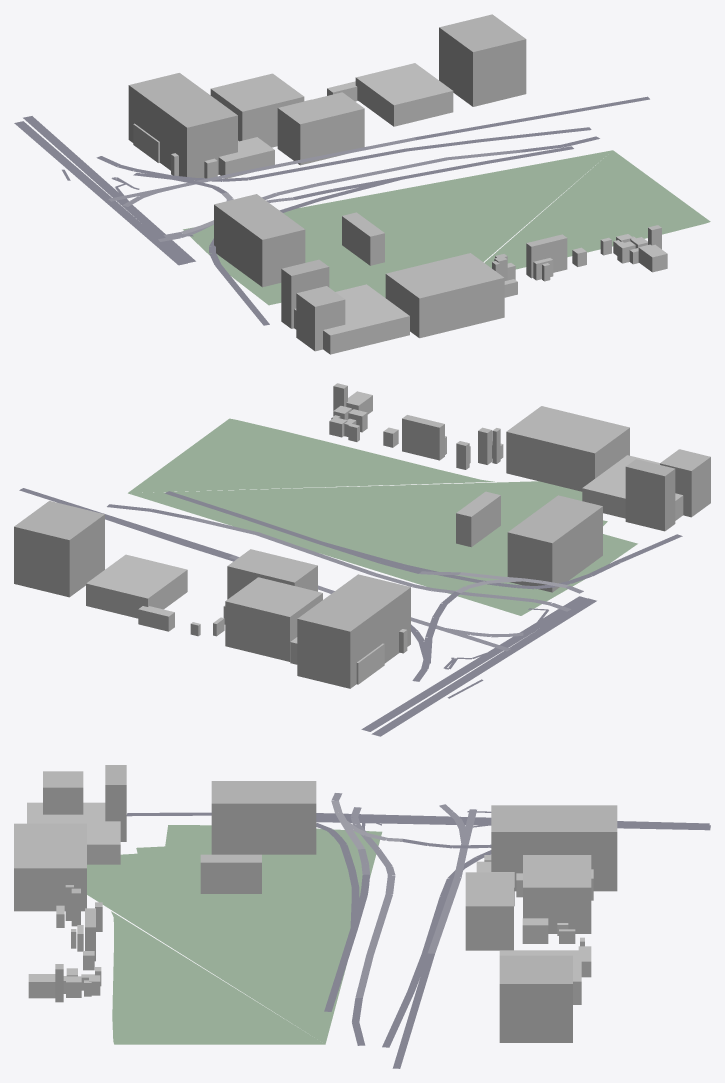
File: 128_87_mid.glb
3 renders of one model, top to bottom at view 1: azimuth 30°, elevation 25°; view 2: azimuth 150°, elevation 25°; view 3: azimuth 270°, elevation 25°, orthographic. The views are drawn at different scales.
Size of the model in its own units: 587 by 62.24 by 640.
